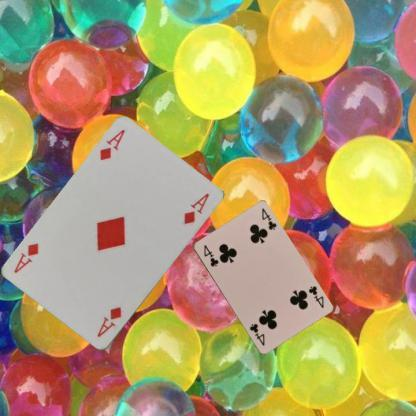4c: (201, 242, 220, 268), (306, 283, 324, 309)
Ad: (97, 126, 127, 162), (94, 304, 123, 340)
